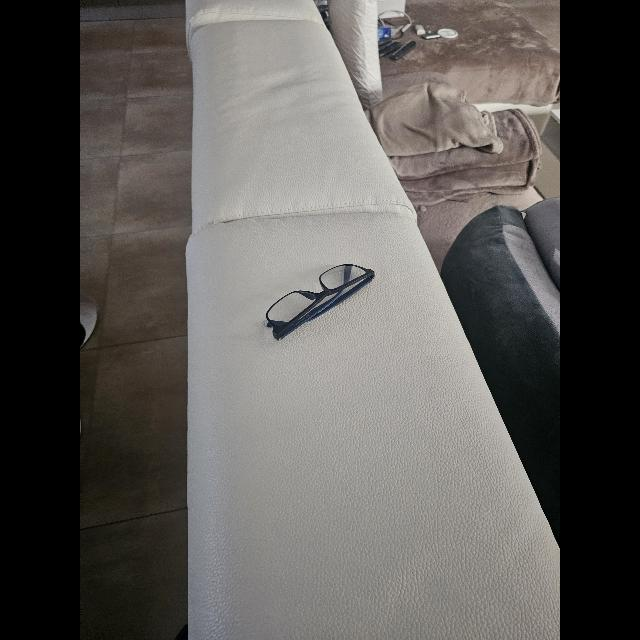glasses: (266, 264, 374, 340)
